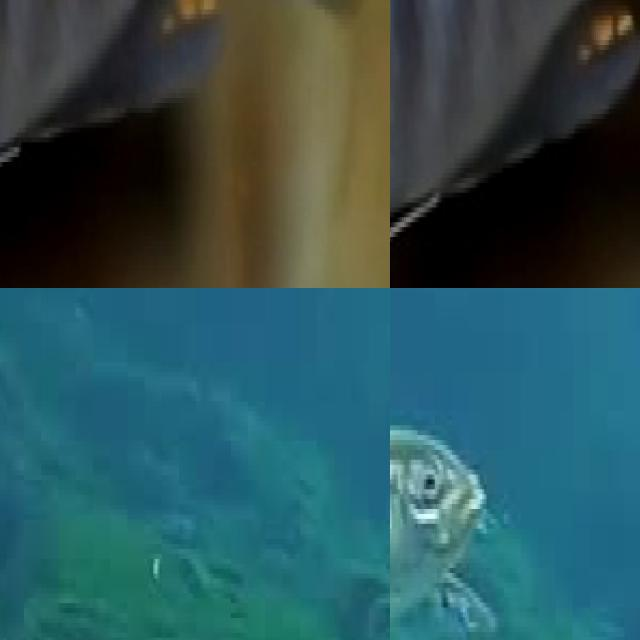fish: (0, 0, 390, 288), (390, 371, 482, 640)
